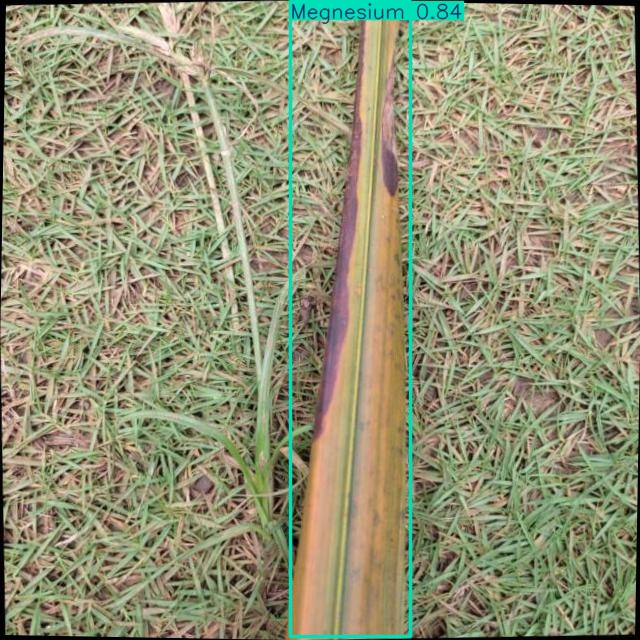Megnesium: (291, 2, 411, 637)
